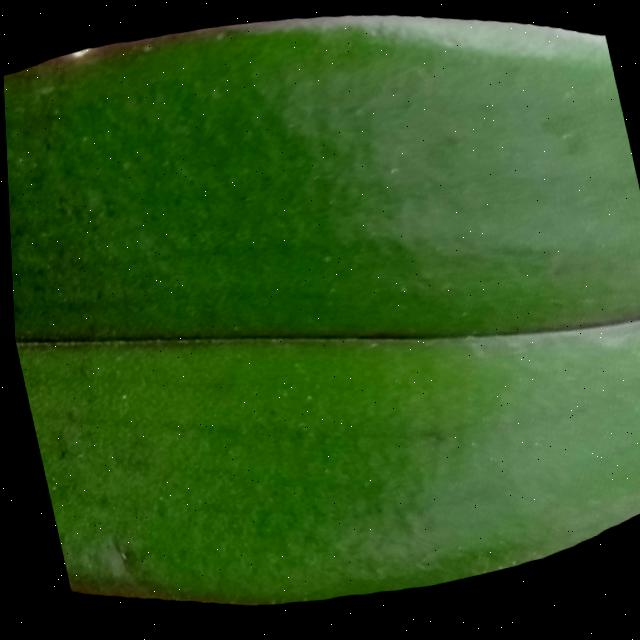mite: (21, 362, 175, 594), (37, 381, 139, 465), (39, 424, 74, 469), (46, 189, 79, 226), (105, 384, 133, 410), (145, 492, 168, 523), (46, 431, 67, 462), (106, 540, 127, 567), (51, 195, 73, 220), (39, 472, 58, 495), (294, 534, 314, 552), (112, 390, 127, 404), (298, 395, 310, 406)
spots: (2, 0, 640, 637)
